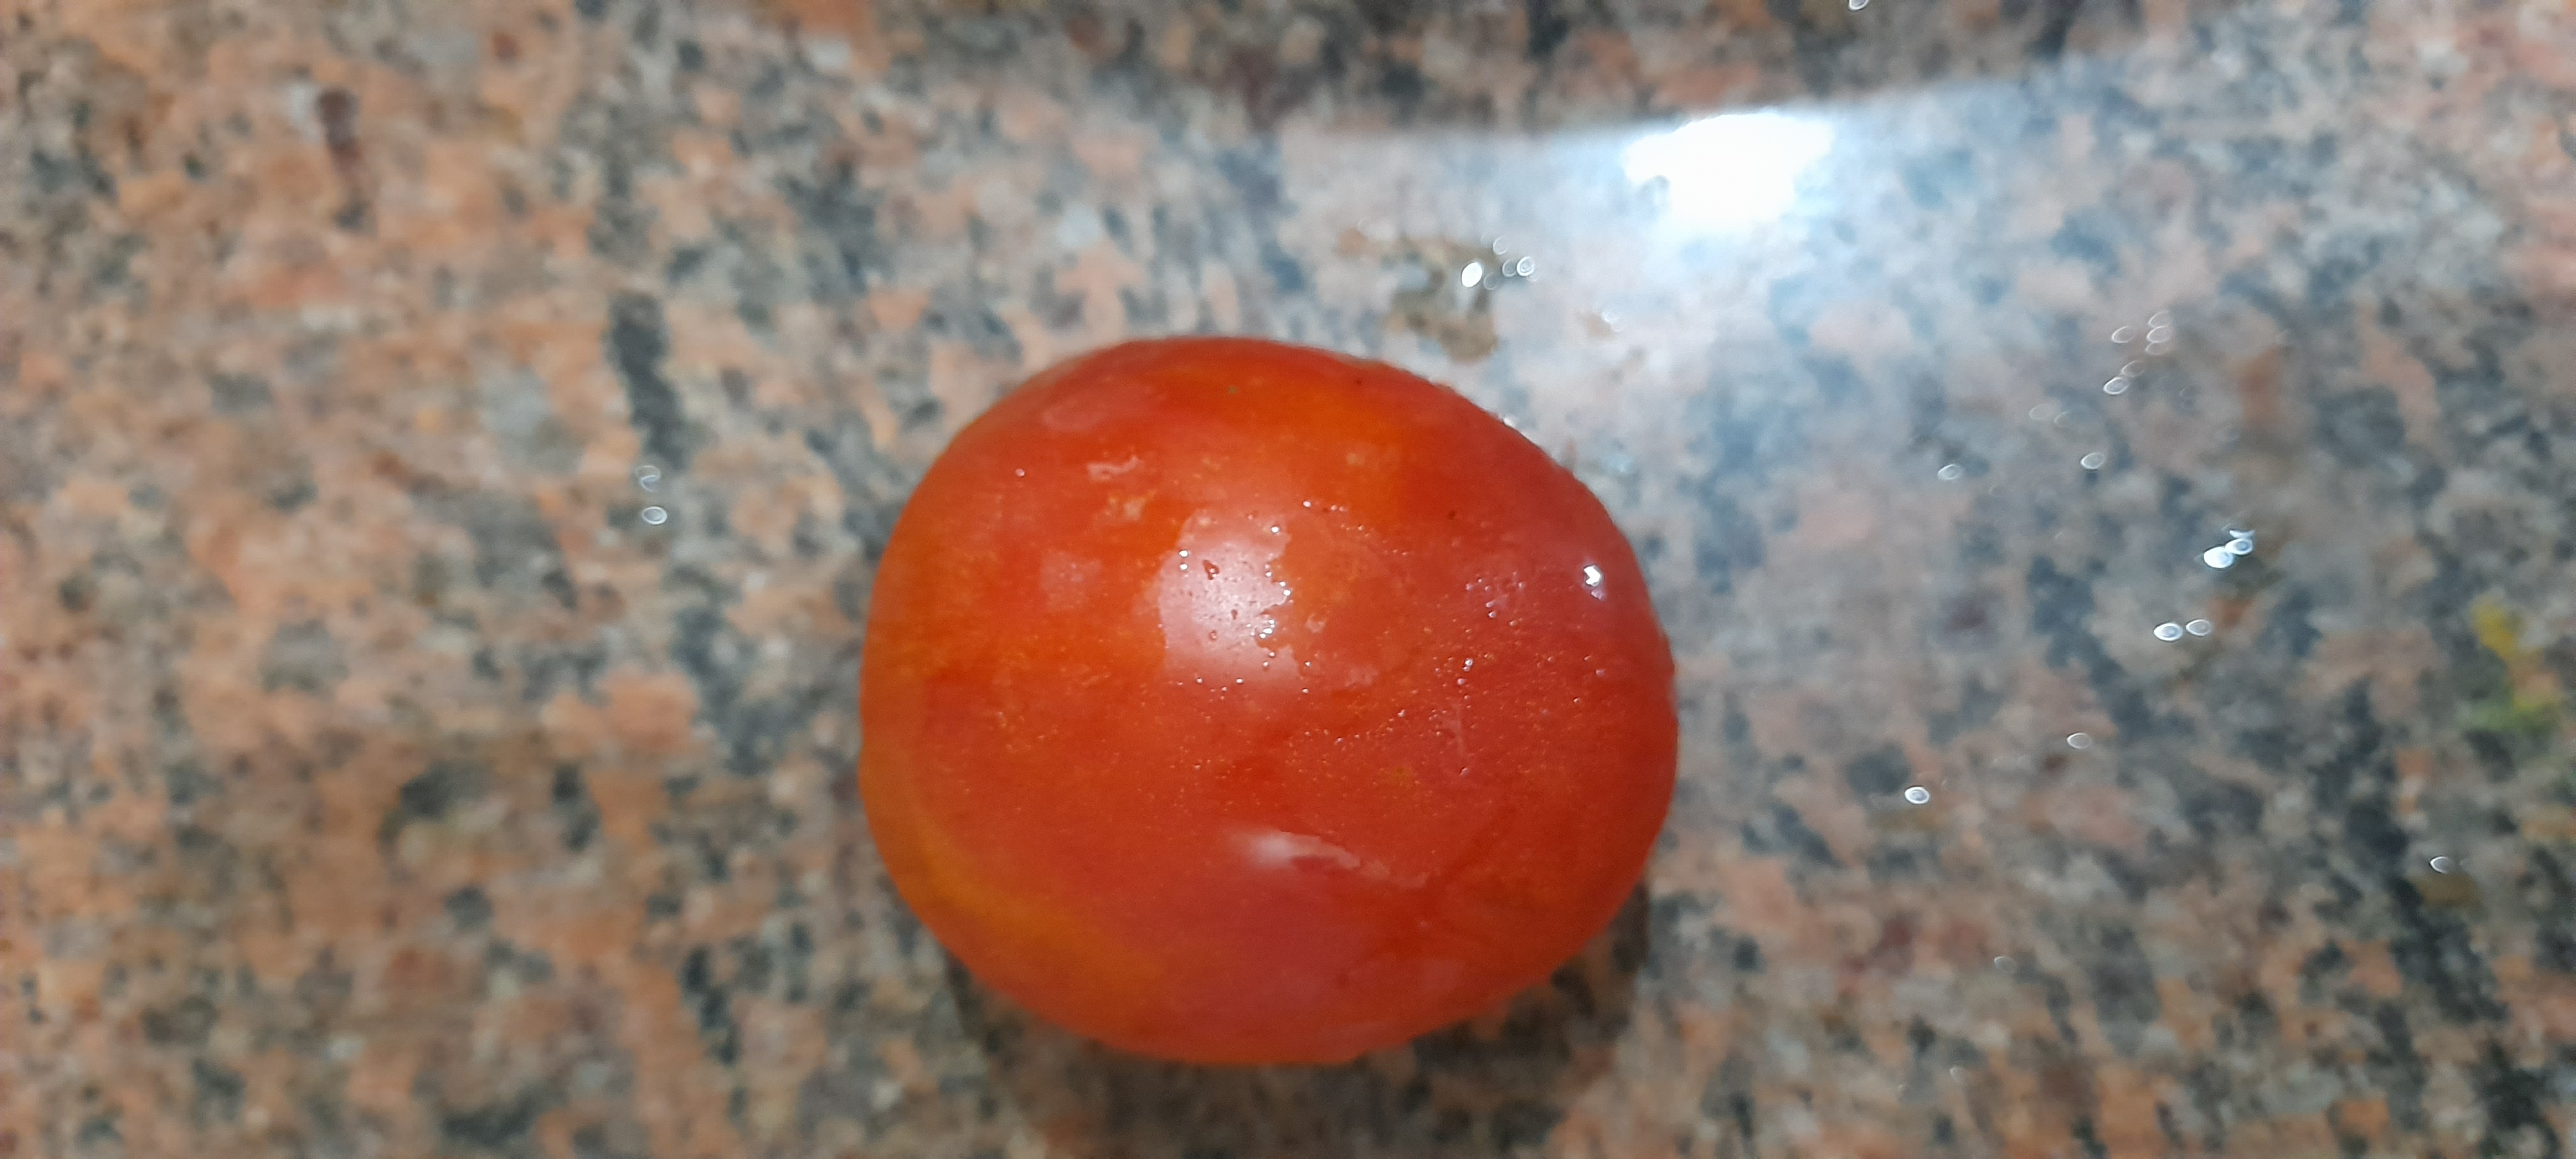tomato: (808, 292, 1773, 1129)
